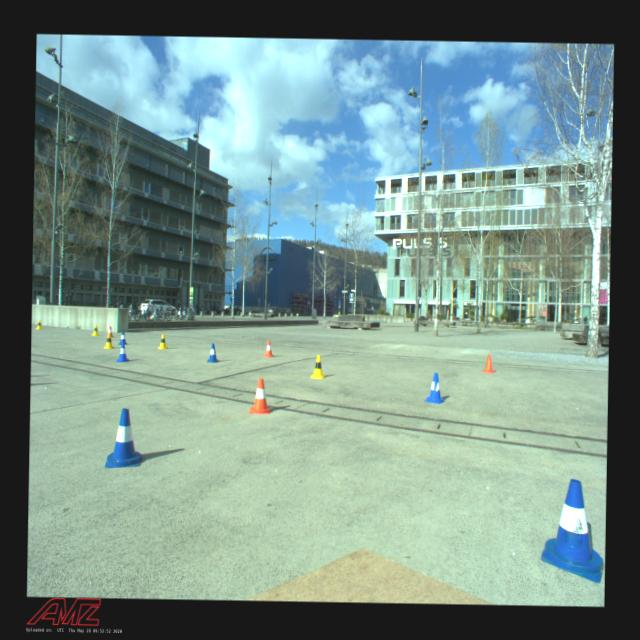blue_cone: (540, 477, 605, 584), (104, 406, 144, 468), (424, 371, 446, 404), (116, 341, 130, 362), (206, 342, 220, 362), (118, 330, 128, 344)
orange_cone: (248, 378, 270, 413), (482, 353, 495, 372), (262, 340, 275, 356), (106, 326, 114, 338)
yellow_cone: (310, 354, 326, 378), (102, 332, 114, 348), (158, 334, 168, 349), (92, 324, 100, 336), (35, 319, 43, 329)
